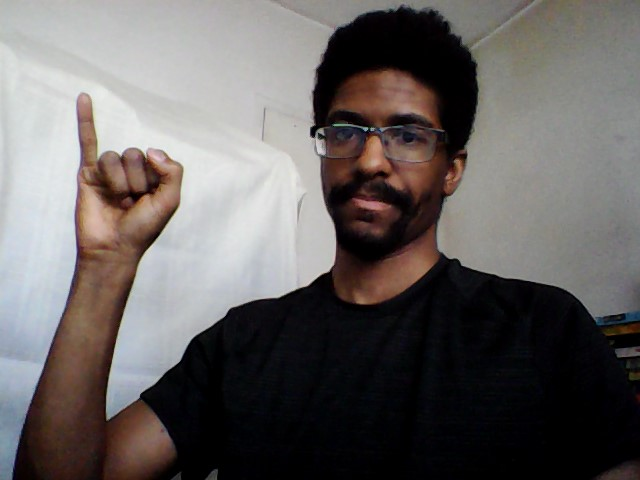i: (68, 86, 188, 258)
